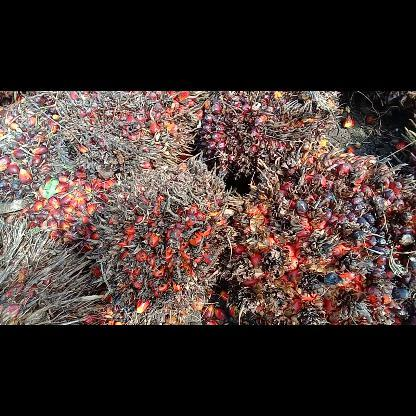Terlalu masak: (223, 146, 415, 324), (83, 150, 245, 324), (183, 91, 349, 189), (46, 90, 204, 180)
